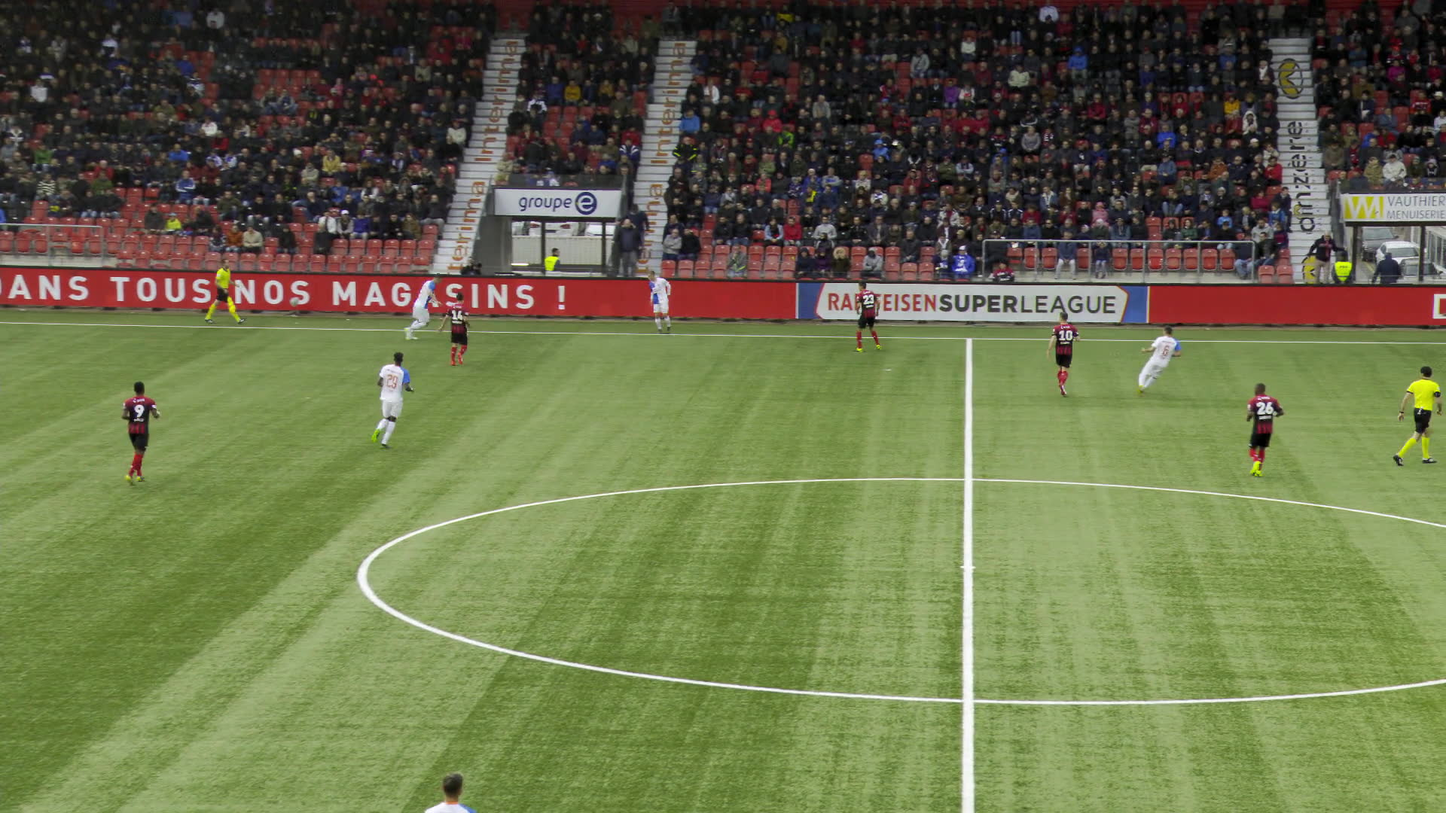player: (372, 352, 418, 448), (124, 382, 165, 486), (1250, 382, 1289, 477), (398, 273, 445, 340), (1141, 326, 1185, 397), (1048, 312, 1081, 398), (440, 293, 473, 364), (428, 774, 479, 812), (859, 280, 882, 352), (649, 270, 673, 333)
referee: (1393, 366, 1442, 465), (209, 257, 247, 324)
